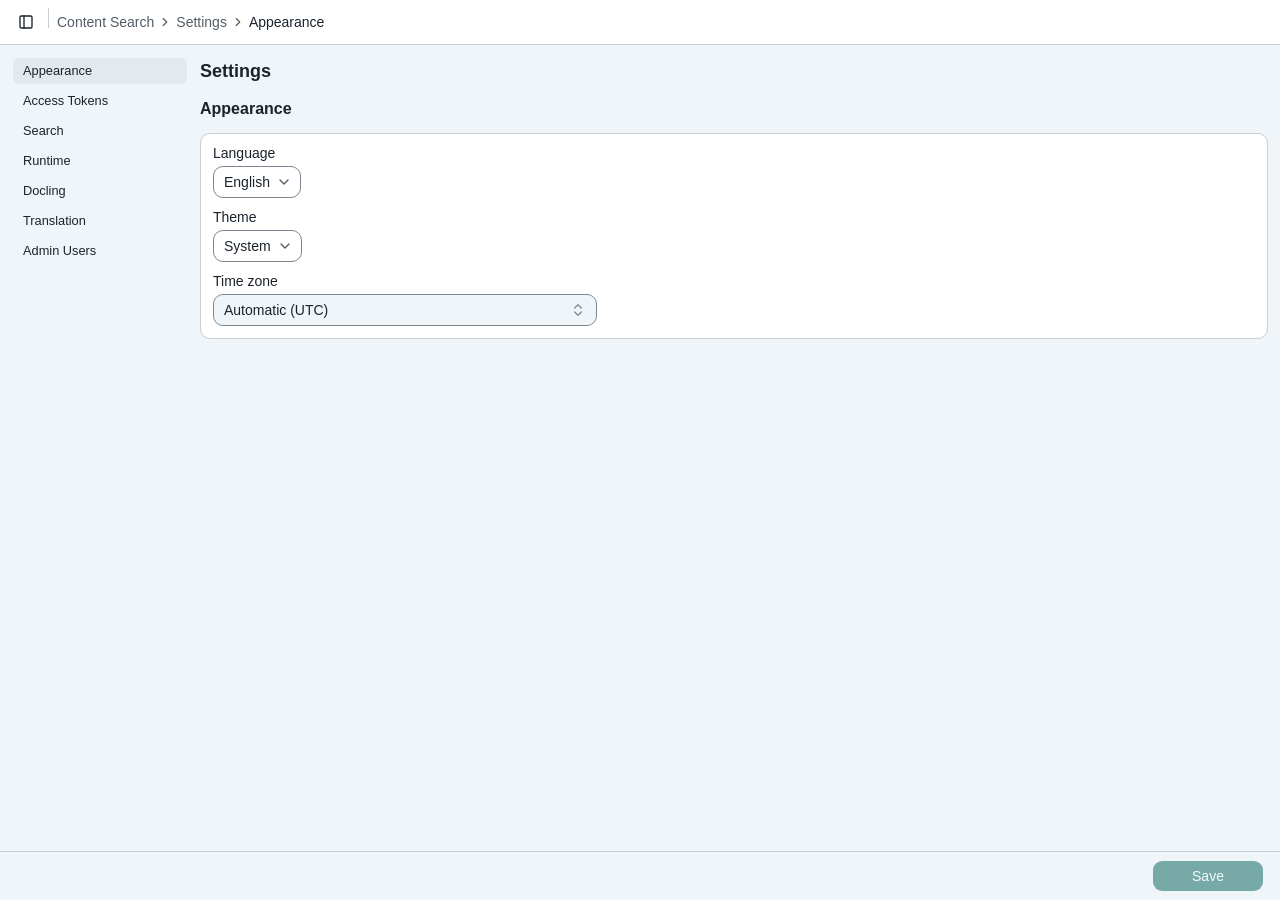
Test: appearance settings › keeps Save enabled after reverting the draft to the unstored baseline
What coordinates should you click on to do the following:
click the dropdown with test id "settings-theme-select"
I would click on:
 (257, 246)
Its box is [213,230,302,262].
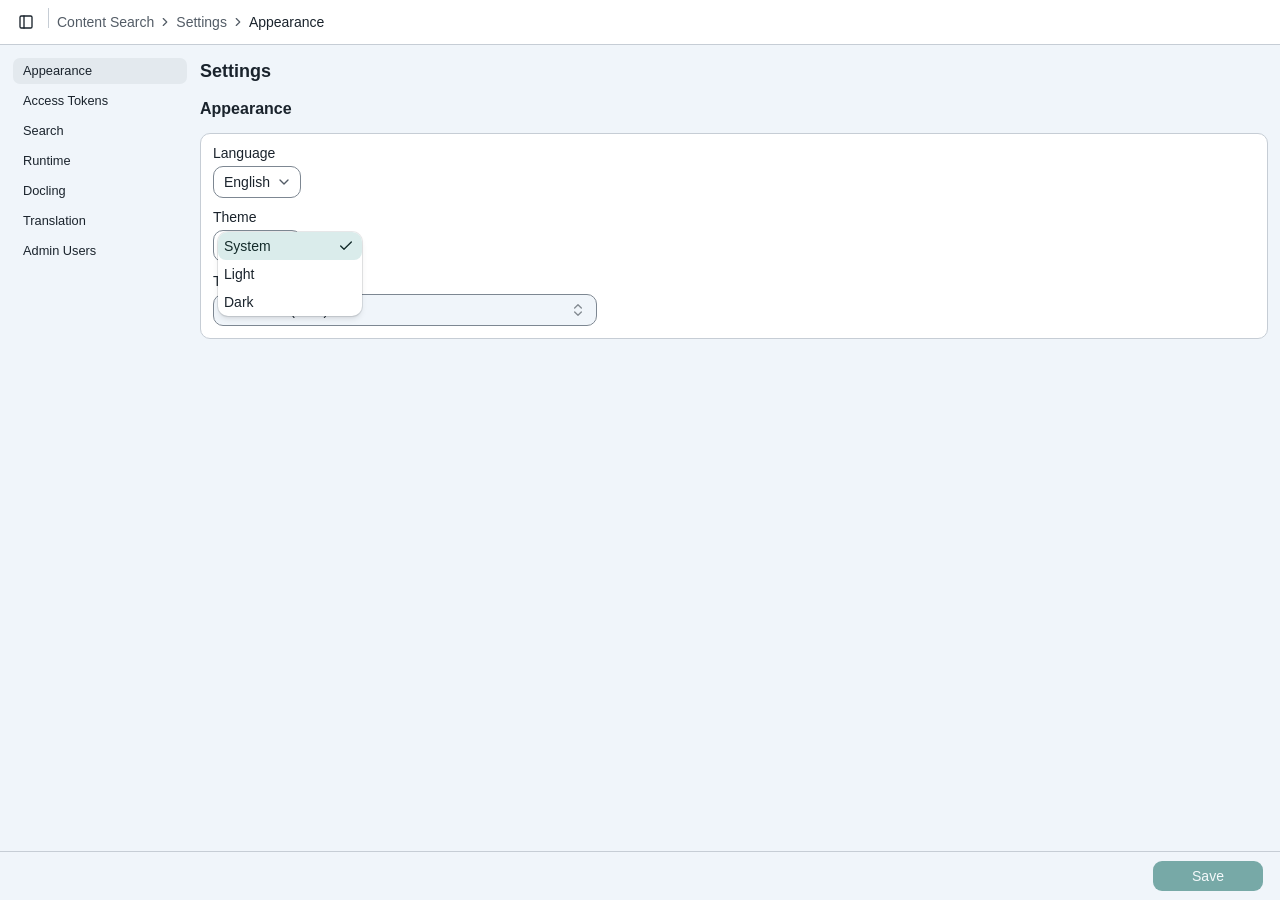
What coordinates should you click on to do the following:
click the option "Dark"
I would click on:
 (239, 302)
Its box is [224,294,254,310].
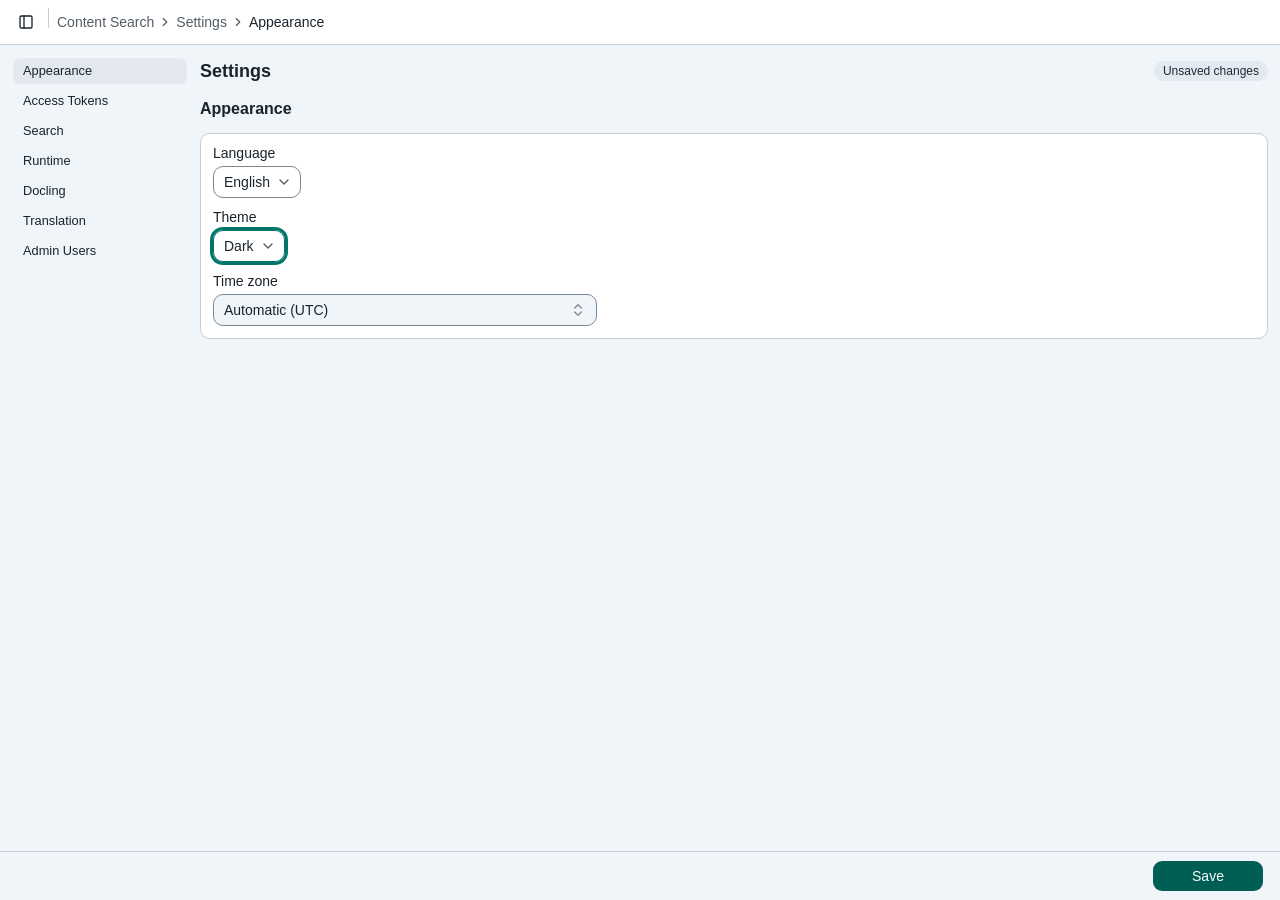
What coordinates should you click on to do the following:
click the button with test id "settings-save"
I would click on:
 (1208, 876)
Its box is [1152,860,1264,892].
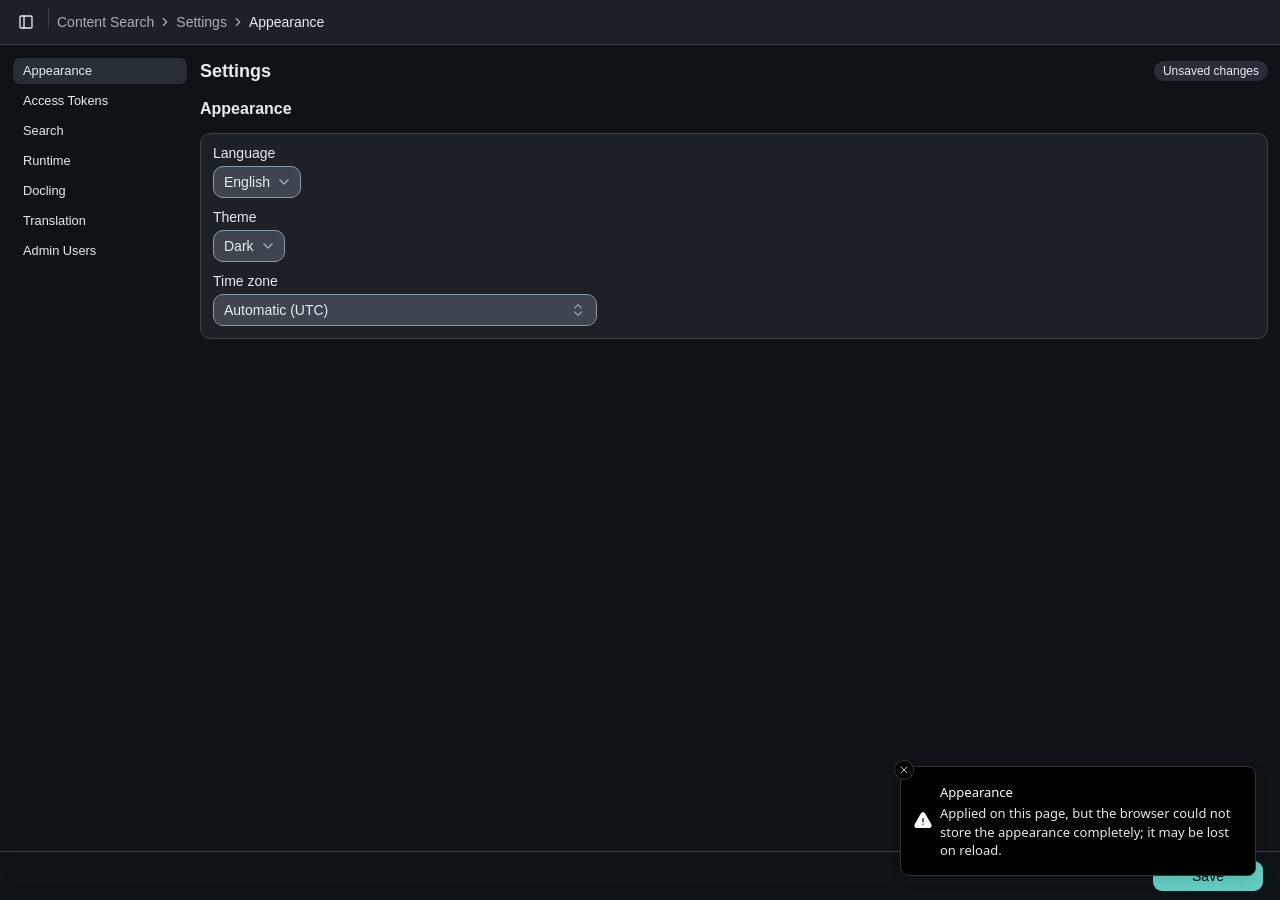
Expected: the text "could not store the appearance" is shown, [940,804,1230,859]
What coordinates should you click on to do the following:
click the dropdown with test id "settings-theme-select"
I would click on:
 (249, 246)
Its box is [213,230,285,262].
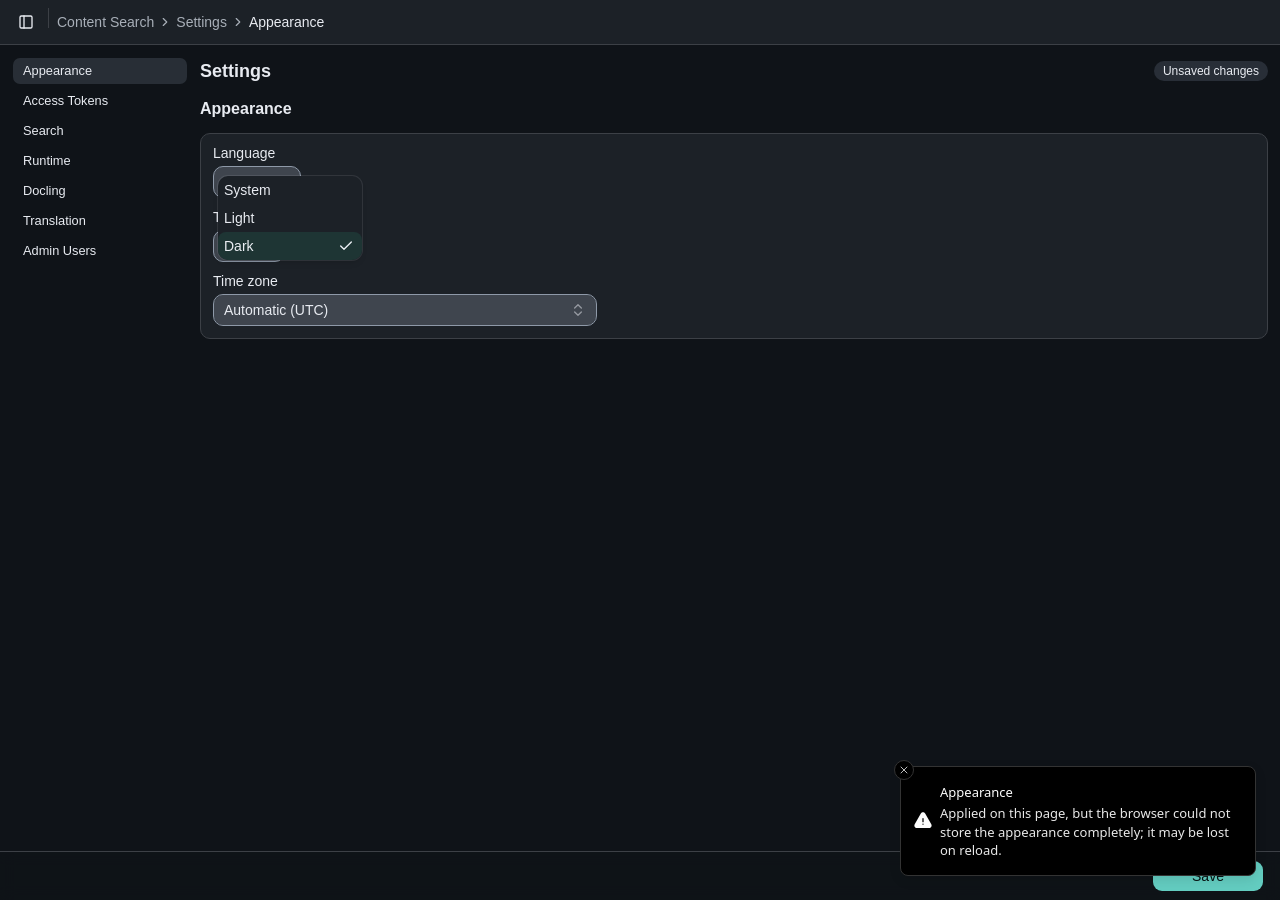
What coordinates should you click on to do the following:
click the option "System"
I would click on:
 (247, 190)
Its box is [224,182,271,198].
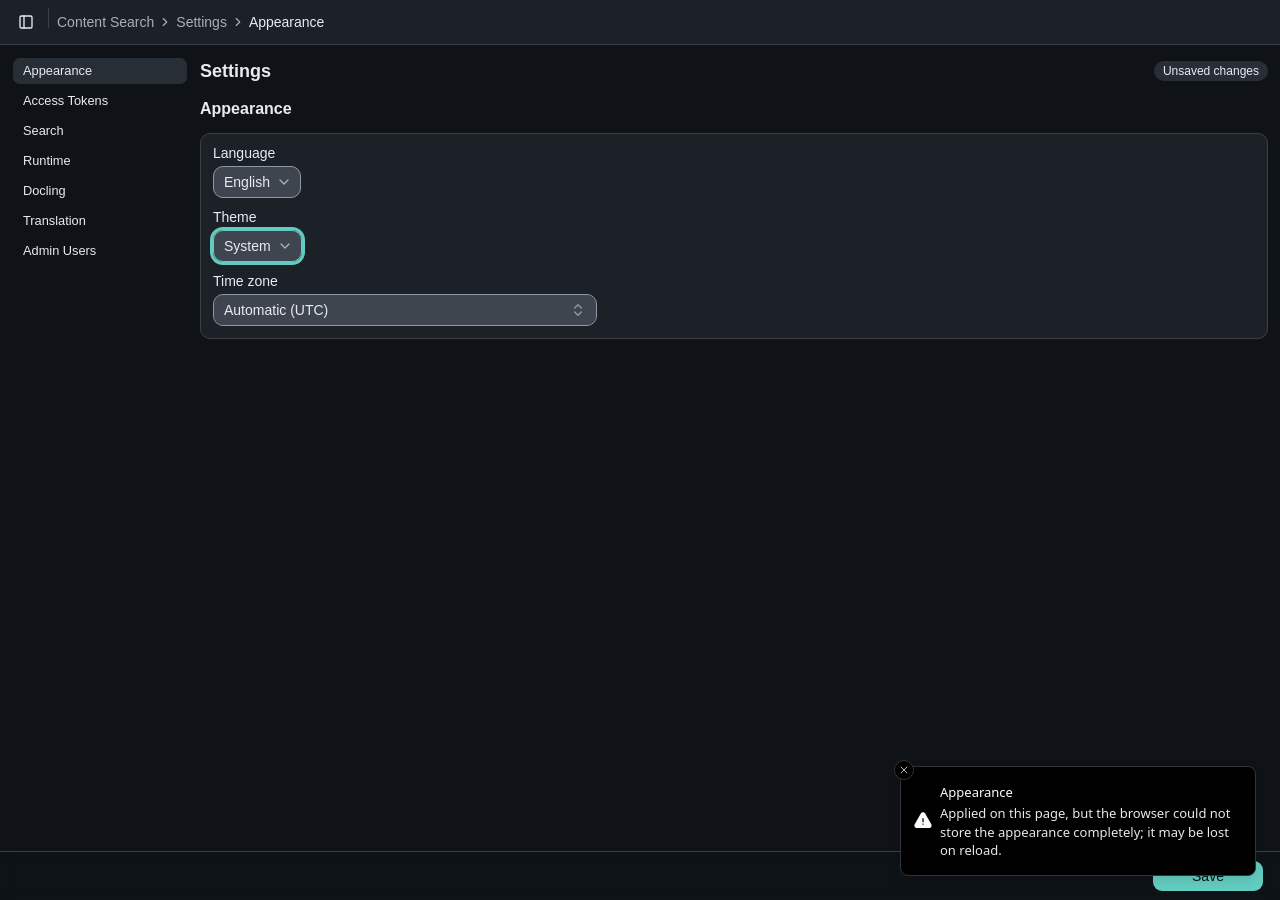
Expected: the button with test id "settings-save" is enabled, [1152,860,1264,892]
Expected: the dropdown with test id "settings-theme-select" reads "System", [213,230,302,262]
